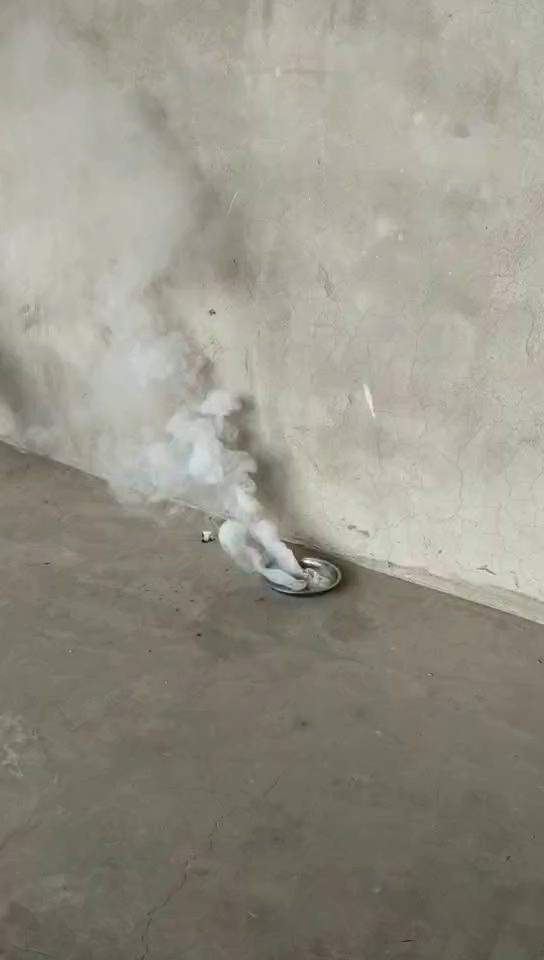yanwu: (72, 290, 302, 580)
